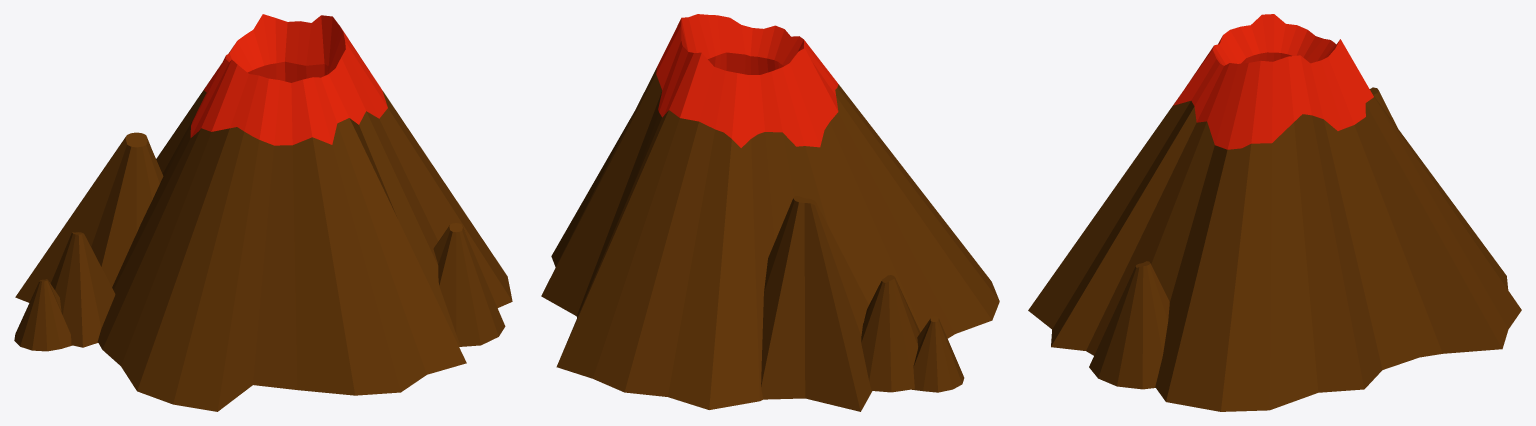
Rendered from volcan.fbx.
3 views of the same model, side by side, from view 1: azimuth 30°, elevation 25°; view 2: azimuth 150°, elevation 25°; view 3: azimuth 270°, elevation 25° (orthographic). The views are drawn at different scales.
Parts seen in each view (by area): view 1: Cone.001; view 2: Cone.001; view 3: Cone.001.
Part boxes in pixels (x1,y1,x2,y2): Cone.001: (14,14,512,411); Cone.001: (541,14,999,411); Cone.001: (1028,14,1521,411).
Bounding box in the file's own units: 683 × 412 × 642.
